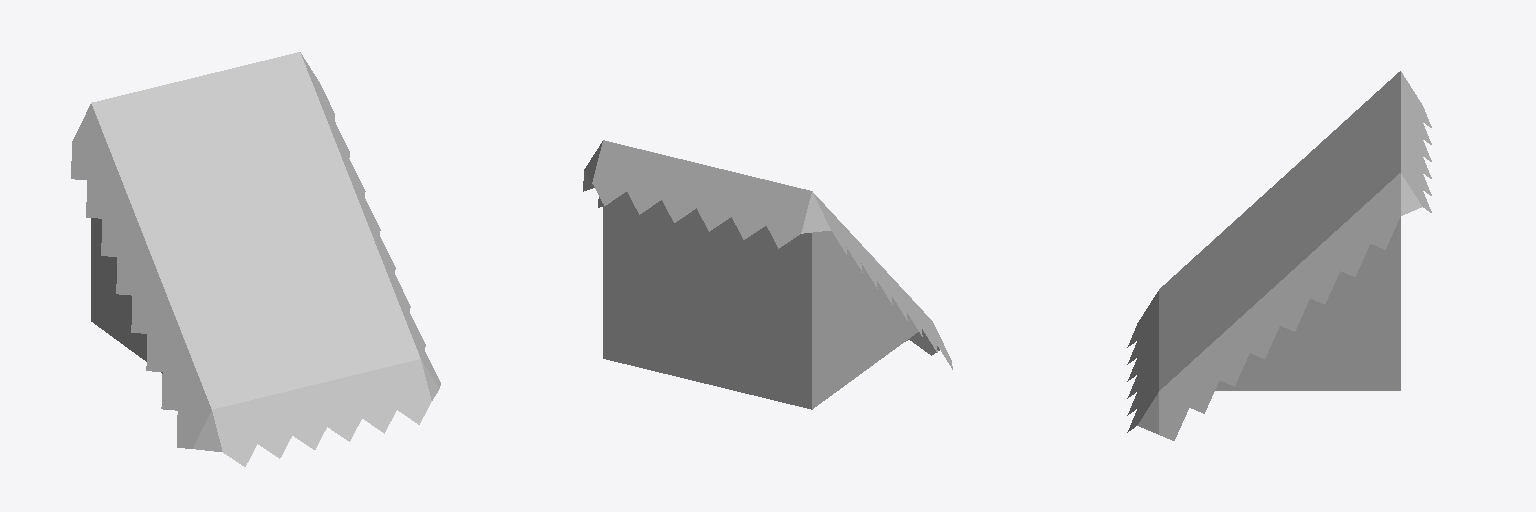
File: blockSlope.obj
3 views of the same model, side by side, from view 1: azimuth 30°, elevation 25°; view 2: azimuth 150°, elevation 25°; view 3: azimuth 270°, elevation 25° (orthographic).
Parts seen in each view (by area): view 1: blockSlope; view 2: blockSlope; view 3: blockSlope.
Part boxes in pixels (bbox=[...]): blockSlope: bbox=[71, 52, 440, 466]; blockSlope: bbox=[583, 140, 952, 409]; blockSlope: bbox=[1127, 71, 1431, 440].
Size of the model in its own units: 1.27 by 1.23 by 1.27.